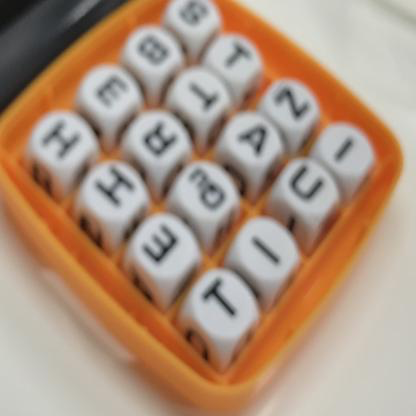a: (237, 114, 274, 170)
b: (133, 26, 177, 73)
e: (140, 215, 188, 274), (92, 66, 133, 120)
h: (33, 106, 87, 166), (89, 160, 143, 217)
i: (243, 226, 292, 280), (326, 126, 364, 179)
q: (183, 162, 236, 222)
r: (137, 115, 187, 166)
s: (174, 1, 215, 37)
t: (196, 272, 247, 331), (183, 73, 226, 116), (215, 38, 257, 81)
u: (288, 154, 335, 215)
z: (268, 80, 319, 129)
